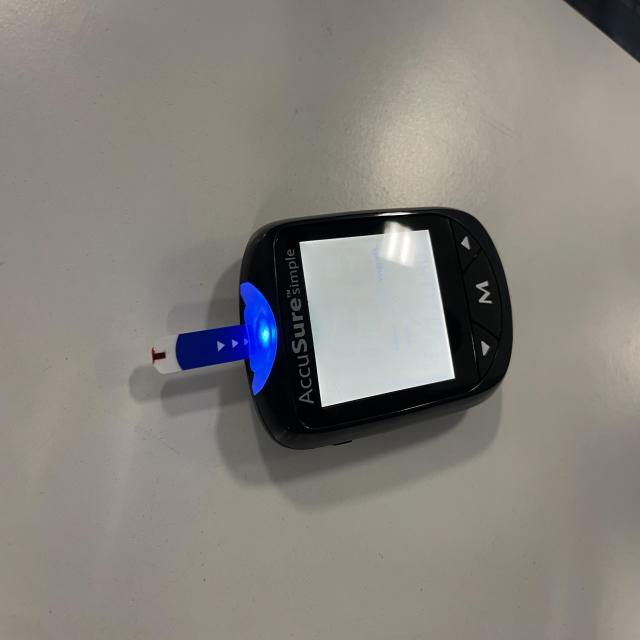gluco: (175, 207, 513, 453)
